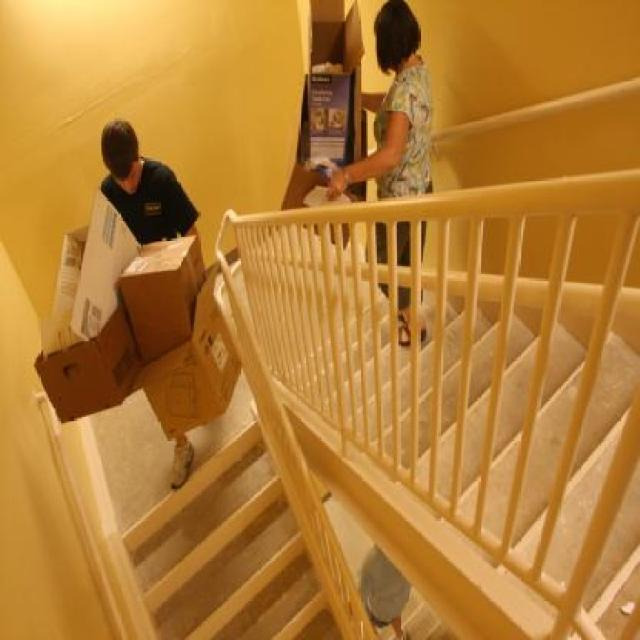stair: (41, 198, 640, 639)
